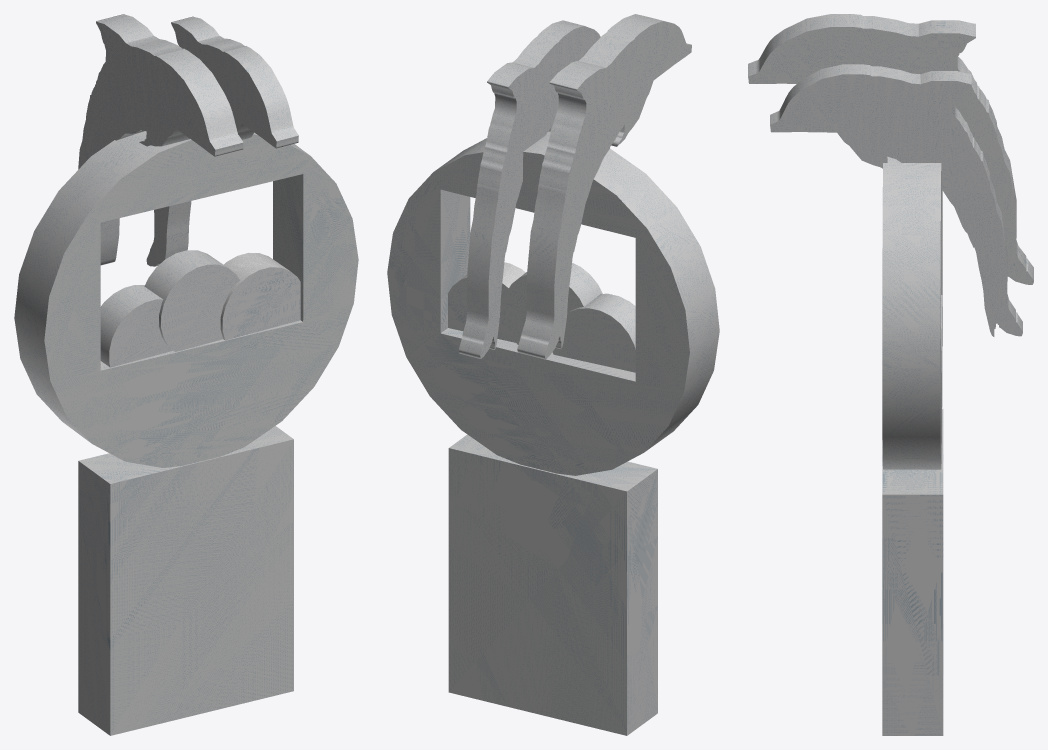
File: 5ttt.dae
3 renders of one model, left to right at view 1: azimuth 30°, elevation 25°; view 2: azimuth 150°, elevation 25°; view 3: azimuth 270°, elevation 25°, orthographic. The views are drawn at different scales.
Visible parts, largest first — view 1: SketchUp (×9); view 2: SketchUp (×8); view 3: SketchUp (×4).
Boxes of the visible parts, x1,y1,x2,y2 form: SketchUp (×9): (14,14,358,735); SketchUp (×8): (387,14,719,735); SketchUp (×4): (748,14,1033,735).
Bounding box in the file's own units: 81.97 × 67.6 × 170.
